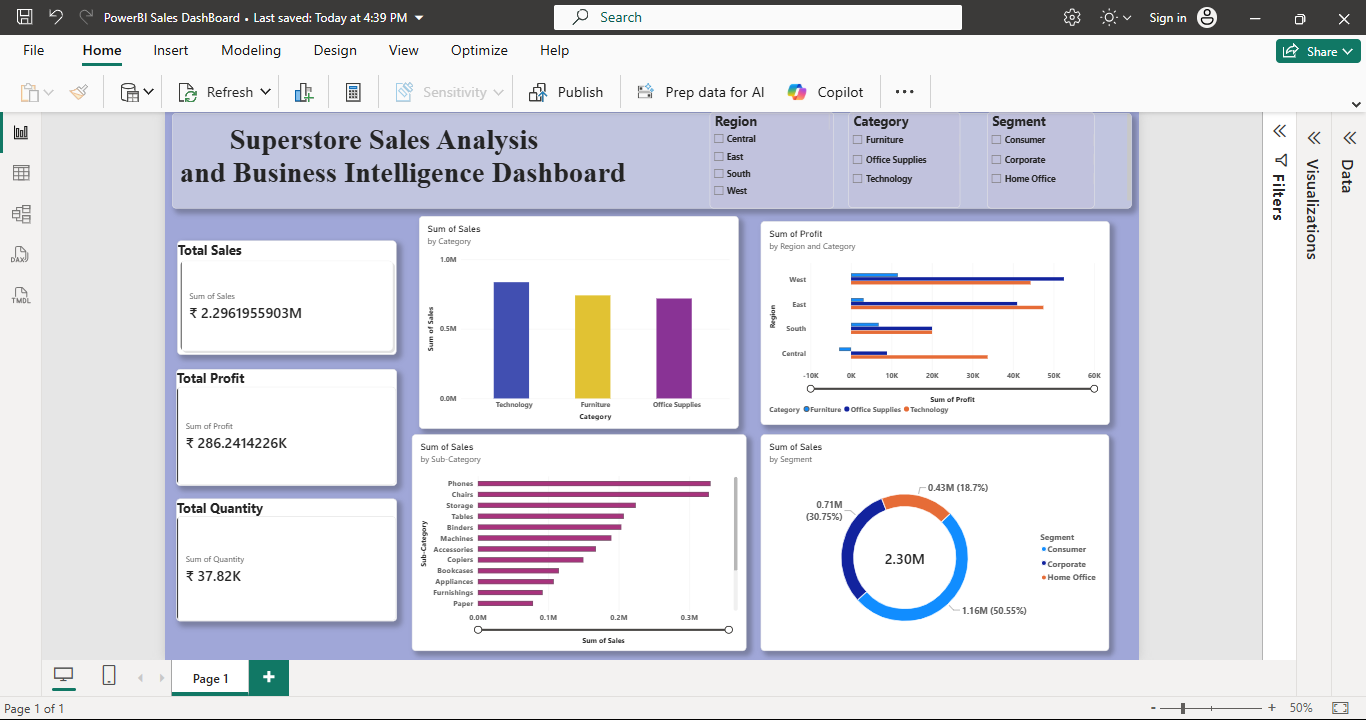

The page's visual inventory and layout, read from the dashboard file:
{"tool":"powerbi","page":{"name":"Page 1","canvas":[1920,1080],"ordinal":0},"visuals":[{"type":"textbox","box":[14,2,1892,188],"z":0},{"type":"slicer","fields":{"Values":["cleaned_superstore.Region"]},"box":[1075,0,245,190],"z":1},{"type":"slicer","fields":{"Values":["cleaned_superstore.Category"]},"box":[1348,0,221,189.4],"z":2},{"type":"slicer","fields":{"Values":["cleaned_superstore.Segment"]},"box":[1622,0,212,190],"z":3},{"type":"cardVisual","title":"Total Sales","fields":{"Data":["Sum(cleaned_superstore.Sales)"]},"box":[25,252.5,432.5,225],"z":4},{"type":"cardVisual","title":"Total Profit","fields":{"Data":["Sum(cleaned_superstore.Profit)"]},"box":[22.5,507.5,435,230],"z":5},{"type":"cardVisual","title":"Total Quantity","fields":{"Data":["Sum(cleaned_superstore.Quantity)"]},"box":[22.5,762.5,435,242.5],"z":6},{"type":"clusteredColumnChart","fields":{"Category":["cleaned_superstore.Category"],"Y":["Sum(cleaned_superstore.Sales)"]},"box":[500,205,630,420],"z":7},{"type":"clusteredBarChart","fields":{"Category":["cleaned_superstore.Region"],"Series":["cleaned_superstore.Category"],"Y":["Sum(cleaned_superstore.Profit)"]},"box":[1175,215,688,402],"z":8},{"type":"donutChart","fields":{"Category":["cleaned_superstore.Segment"],"Y":["Sum(cleaned_superstore.Sales)"]},"box":[1175,635,687.5,427.5],"z":9},{"type":"clusteredBarChart","fields":{"Category":["cleaned_superstore.Sub-Category"],"Y":["Sum(cleaned_superstore.Sales)"]},"box":[486,636,660,427.5],"z":10}]}

Visuals, with their boxes on the page's 1920x1080 design canvas (x1, y1, x2, y2). These are canvas units, not pixel positions in the 1366x720 screenshot, which may show the page scaled, cropped or inside an application window:
textbox: (left=14, top=2, right=1906, bottom=190)
slicer - cleaned_superstore.Region: (left=1075, top=0, right=1320, bottom=190)
slicer - cleaned_superstore.Category: (left=1348, top=0, right=1569, bottom=189)
slicer - cleaned_superstore.Segment: (left=1622, top=0, right=1834, bottom=190)
"Total Sales" cardVisual: (left=25, top=252, right=458, bottom=478)
"Total Profit" cardVisual: (left=22, top=508, right=458, bottom=738)
"Total Quantity" cardVisual: (left=22, top=762, right=458, bottom=1005)
clusteredColumnChart - cleaned_superstore.Category x Sum(cleaned_superstore.Sales): (left=500, top=205, right=1130, bottom=625)
clusteredBarChart - cleaned_superstore.Region x cleaned_superstore.Category: (left=1175, top=215, right=1863, bottom=617)
donutChart - cleaned_superstore.Segment x Sum(cleaned_superstore.Sales): (left=1175, top=635, right=1862, bottom=1062)
clusteredBarChart - cleaned_superstore.Sub-Category x Sum(cleaned_superstore.Sales): (left=486, top=636, right=1146, bottom=1064)
